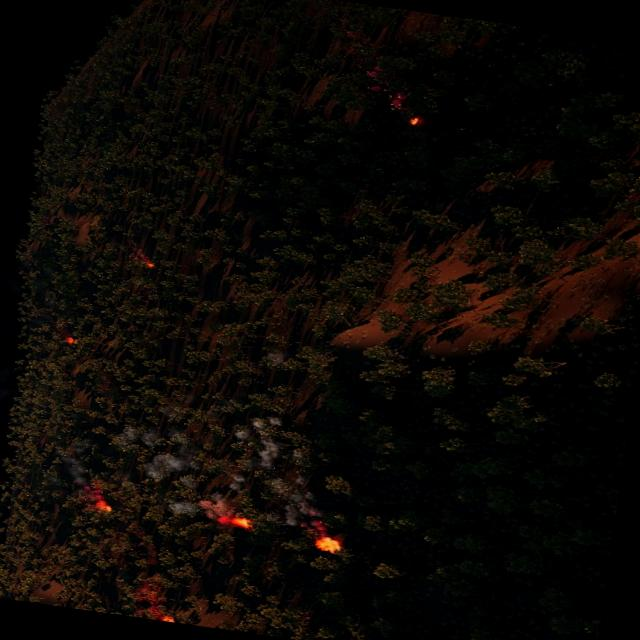fire: (316, 534, 342, 552), (232, 516, 254, 528), (96, 498, 114, 510), (410, 114, 423, 126), (142, 256, 156, 267), (162, 615, 176, 623), (66, 336, 78, 344)
smoke: (222, 409, 336, 534), (115, 385, 208, 484), (363, 65, 413, 109), (167, 493, 233, 524), (59, 438, 96, 488), (127, 233, 157, 264), (264, 347, 290, 364)
